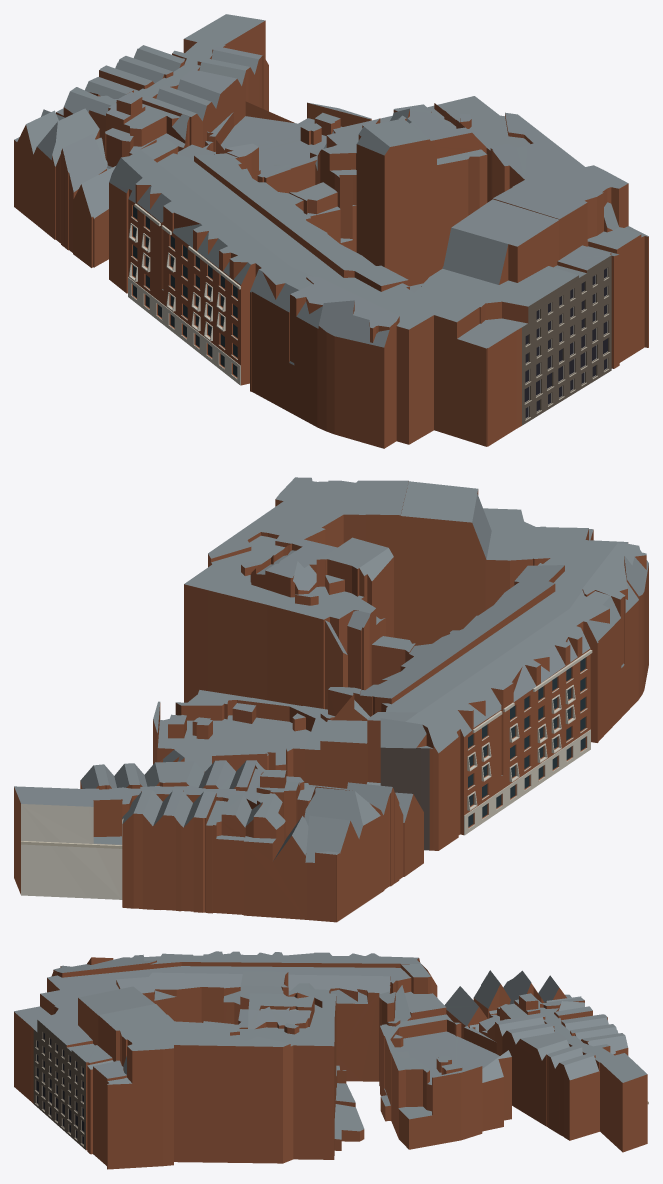
File: recipe-large-engelsesteeg-165098.glb
The picture shows the model from 3 angles, top to bottom: view 1: azimuth 30°, elevation 25°; view 2: azimuth 150°, elevation 25°; view 3: azimuth 270°, elevation 25°; orthographic projection. The views are drawn at different scales.
Parts seen in each view (by area): view 1: engelsesteeg-165098; view 2: engelsesteeg-165098; view 3: engelsesteeg-165098.
Part boxes in pixels (x1,y1,x2,y2): engelsesteeg-165098: (14, 14, 648, 448); engelsesteeg-165098: (14, 477, 648, 922); engelsesteeg-165098: (14, 951, 648, 1169).
Bounding box in the file's own units: 55.35 × 26.98 × 115.
